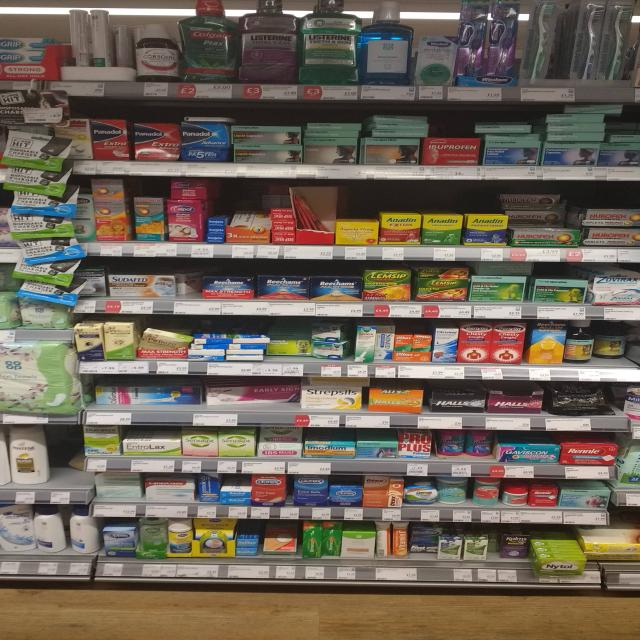unorganised: (502, 190, 569, 227), (289, 187, 336, 233), (204, 385, 302, 403), (140, 327, 194, 350), (597, 318, 627, 357), (560, 100, 628, 117), (264, 334, 310, 358), (473, 120, 540, 136), (407, 523, 438, 556), (309, 322, 347, 345), (435, 427, 464, 456), (502, 535, 532, 558), (466, 427, 489, 456)
